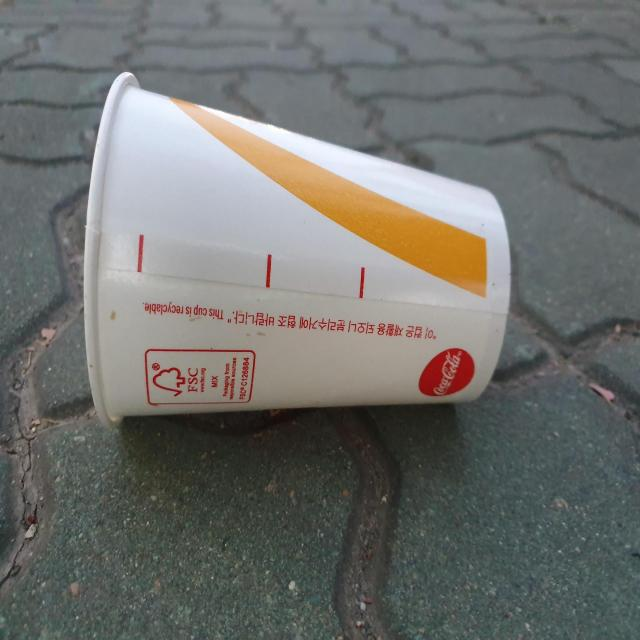paperpack: (84, 72, 511, 426)
